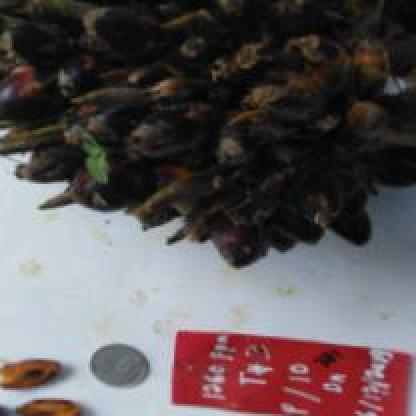Unripe: (0, 0, 416, 298)
